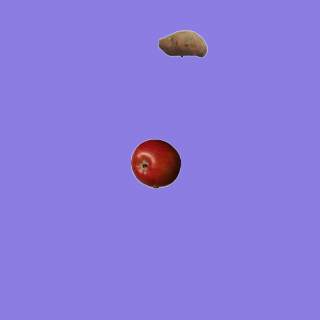Apple Braeburn: (130, 138, 180, 188)
Potato Sweet: (157, 18, 207, 68)
